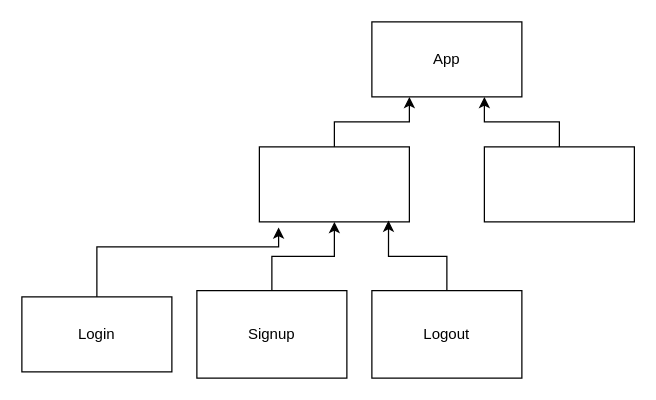
Some shapes in this 656 by 400 pixel diagram are drawn without their labels. The shapes that lost their labels are listed below. From the top down, each one's centre as x and y in pixels, then its label:
At point 333,184: "Home".
At point 558,184: "PrivateStuff".
